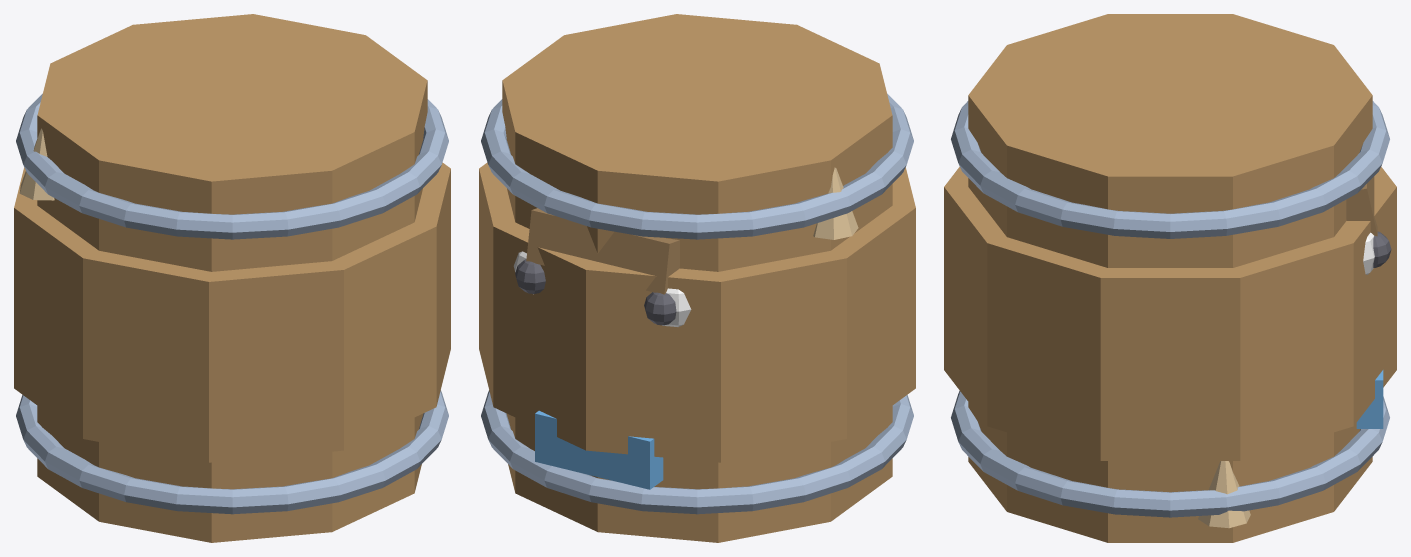
The model's file is barb_barrel.glb.
The picture shows the model from 3 angles, left to right: view 1: azimuth 30°, elevation 25°; view 2: azimuth 150°, elevation 25°; view 3: azimuth 270°, elevation 25°; orthographic projection.
Parts seen in each view (by area): view 1: barb_barrel; view 2: barb_barrel; view 3: barb_barrel.
Boxes of the visible parts, bbox=[...] form: barb_barrel: bbox=[14, 14, 450, 542]; barb_barrel: bbox=[479, 14, 915, 542]; barb_barrel: bbox=[944, 14, 1396, 542].
Bounding box in the file's own units: 1.63 × 1.5 × 1.68.
